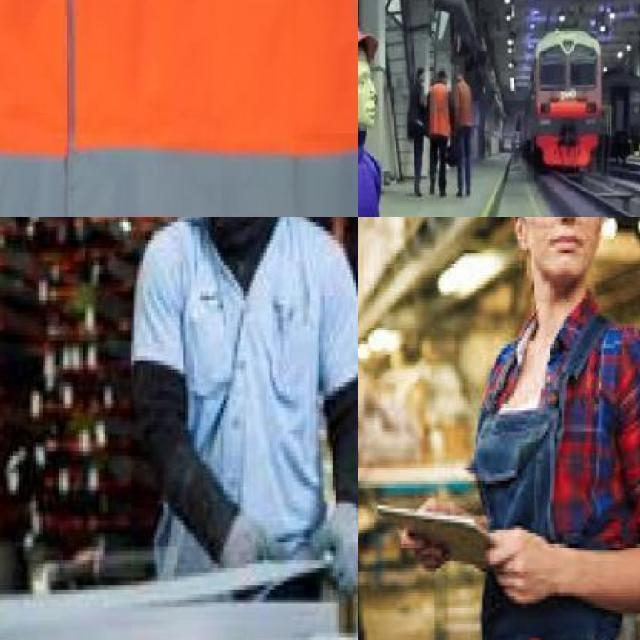apron: (213, 500, 268, 590), (310, 502, 358, 601)
